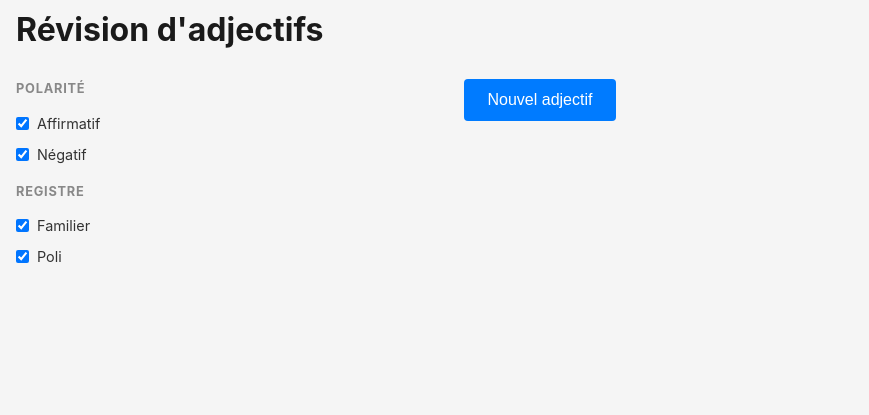
Scenario: AdjectiveRevisionPage › when fetch button clicked, then displays adjective and form
Click the button "Nouvel adjectif". click: (540, 100)
box: [464,79,616,121]
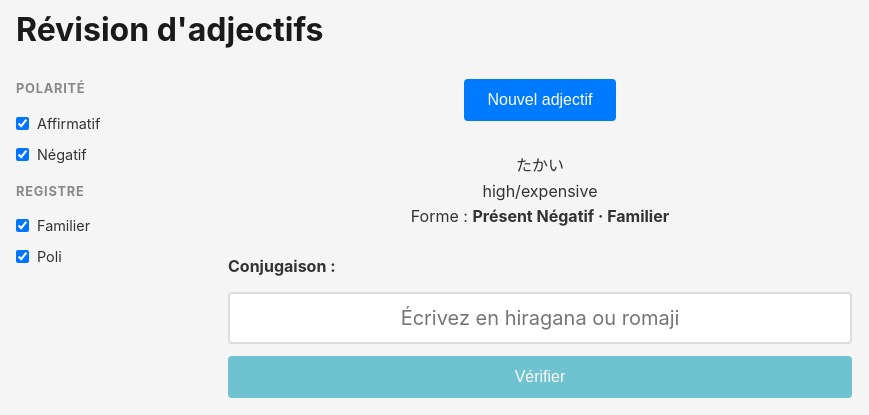
Now the text "たかい" is shown, box [516,155,564,175]
Now the text "Présent Négatif · Familier" is shown, box [472,206,669,226]
